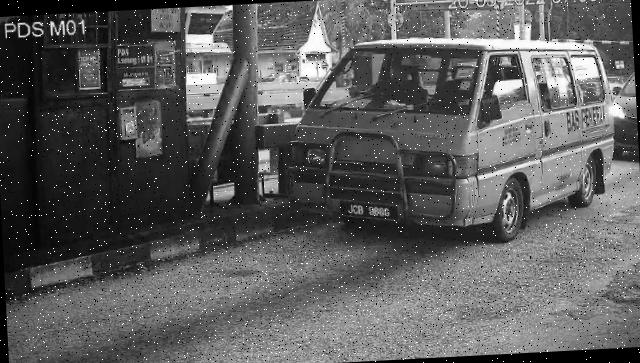License_Plate: (339, 198, 403, 227)
van: (277, 29, 621, 256)
